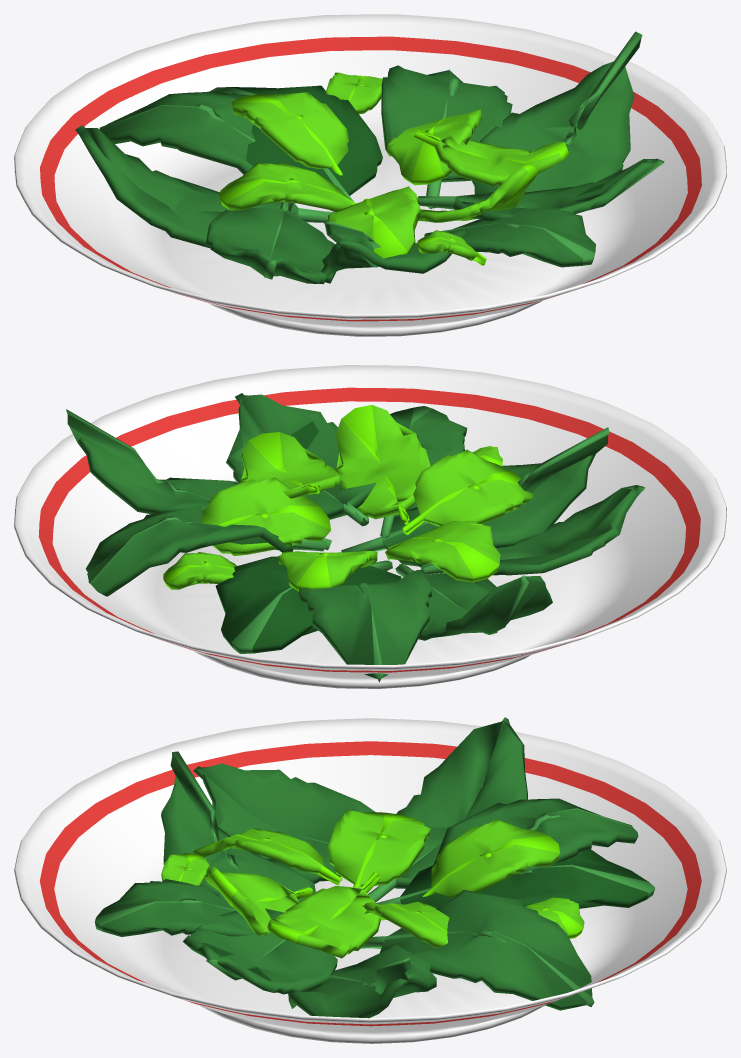
Rendered from basil.fbx.
The picture shows the model from 3 angles, top to bottom: view 1: azimuth 30°, elevation 25°; view 2: azimuth 150°, elevation 25°; view 3: azimuth 270°, elevation 25°; orthographic projection.
Visible parts, largest first — view 1: Dish.001, basil.006, basil.001, basil.010, basil.004, basil.011, basil.002, basil.007, basil, basil.003, basil.009, basil.008 (+6 smaller); view 2: Dish.001, basil.010, basil.011, basil, basil.013, basil.012, basil.005, basil.006, basil.001, basil.009, basil.014, basil.004 (+5 smaller); view 3: Dish.001, basil.011, basil.001, basil.004, basil, basil.009, basil.002, basil.012, basil.007, basil.006, basil.003, basil.010 (+6 smaller).
Part boxes in pixels (box(x1,y1,x2,y2)): Dish.001: box(14, 14, 726, 336); basil.006: box(471, 31, 642, 194); basil.001: box(75, 125, 334, 248); basil.010: box(99, 91, 255, 174); basil.004: box(205, 202, 335, 284); basil.011: box(381, 65, 512, 209); basil.002: box(231, 92, 348, 175); basil.007: box(424, 207, 595, 267); basil: box(210, 85, 382, 201); basil.003: box(219, 162, 356, 212); basil.009: box(418, 158, 664, 221); basil.008: box(414, 129, 569, 186); Dish.001: box(14, 365, 726, 688); basil.010: box(298, 569, 431, 682); basil.011: box(86, 505, 326, 596); basil: box(215, 556, 401, 653); basil.013: box(335, 404, 430, 524); basil.012: box(341, 427, 609, 567); basil.005: box(402, 449, 532, 535); basil.006: box(66, 409, 331, 550); basil.001: box(395, 563, 552, 640); basil.009: box(226, 393, 376, 526); basil.014: box(201, 477, 330, 556); basil.004: box(421, 485, 645, 575); Dish.001: box(14, 718, 726, 1043); basil.011: box(361, 890, 594, 1010); basil.001: box(368, 717, 527, 902); basil.004: box(193, 763, 375, 883); basil: box(376, 849, 655, 908); basil.009: box(183, 908, 337, 994); basil.002: box(422, 819, 559, 897); basil.012: box(161, 751, 315, 901); basil.007: box(95, 879, 254, 936); basil.006: box(288, 943, 436, 1018); basil.003: box(327, 810, 430, 887); basil.010: box(434, 798, 638, 874).
Bounding box in the file's own units: 410 × 84.76 × 410.
11 materials, 11 textured.
